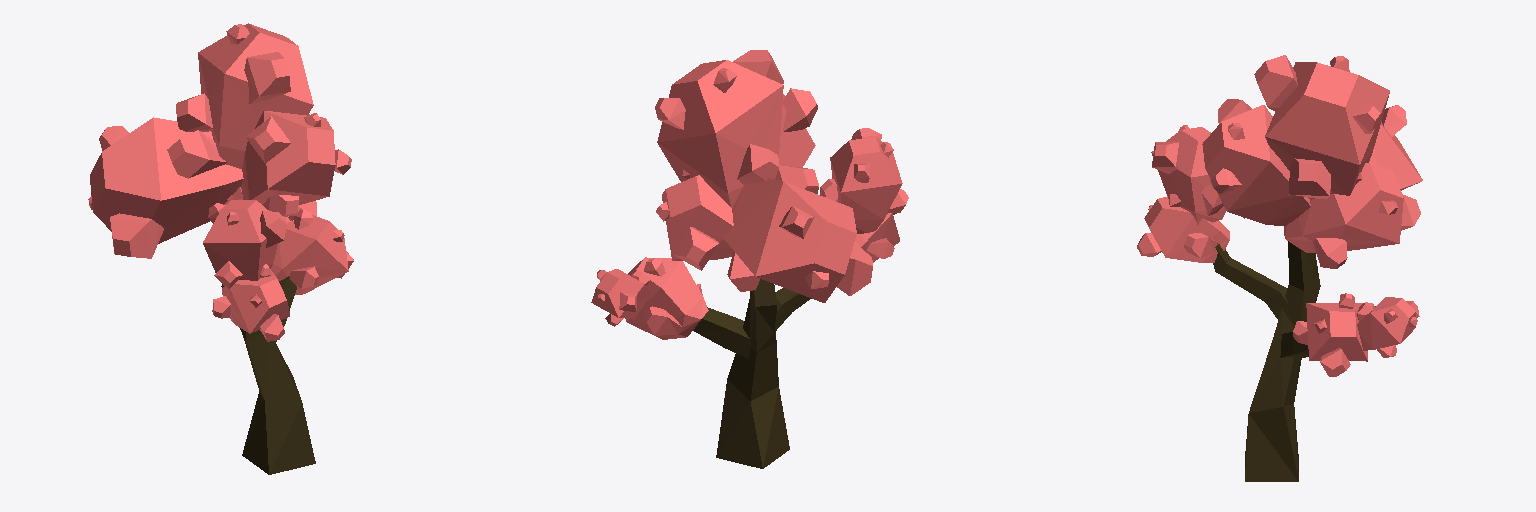
File: tree1.obj
3 views of the same model, side by side, from view 1: azimuth 30°, elevation 25°; view 2: azimuth 150°, elevation 25°; view 3: azimuth 270°, elevation 25° (orthographic).
Parts seen in each view (by area): view 1: crown, Tree; view 2: crown, Tree; view 3: crown, Tree.
Boxes of the visible parts, box(x1,y1,x2,y2) form: crown: box(88, 23, 353, 341); Tree: box(221, 276, 315, 474); crown: box(591, 50, 908, 339); Tree: box(693, 279, 811, 468); crown: box(1137, 55, 1422, 376); Tree: box(1213, 241, 1320, 481).
Size of the model in its own units: 10.59 by 16.73 by 10.6.